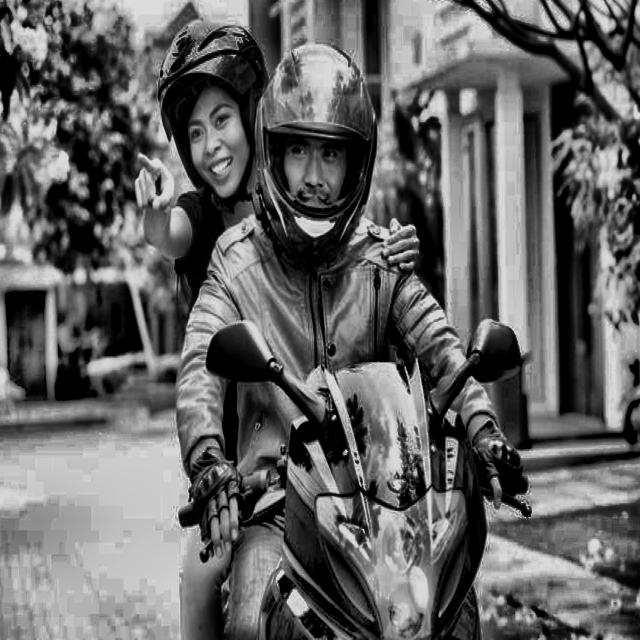Helmet: (253, 35, 385, 261), (152, 10, 263, 238)
